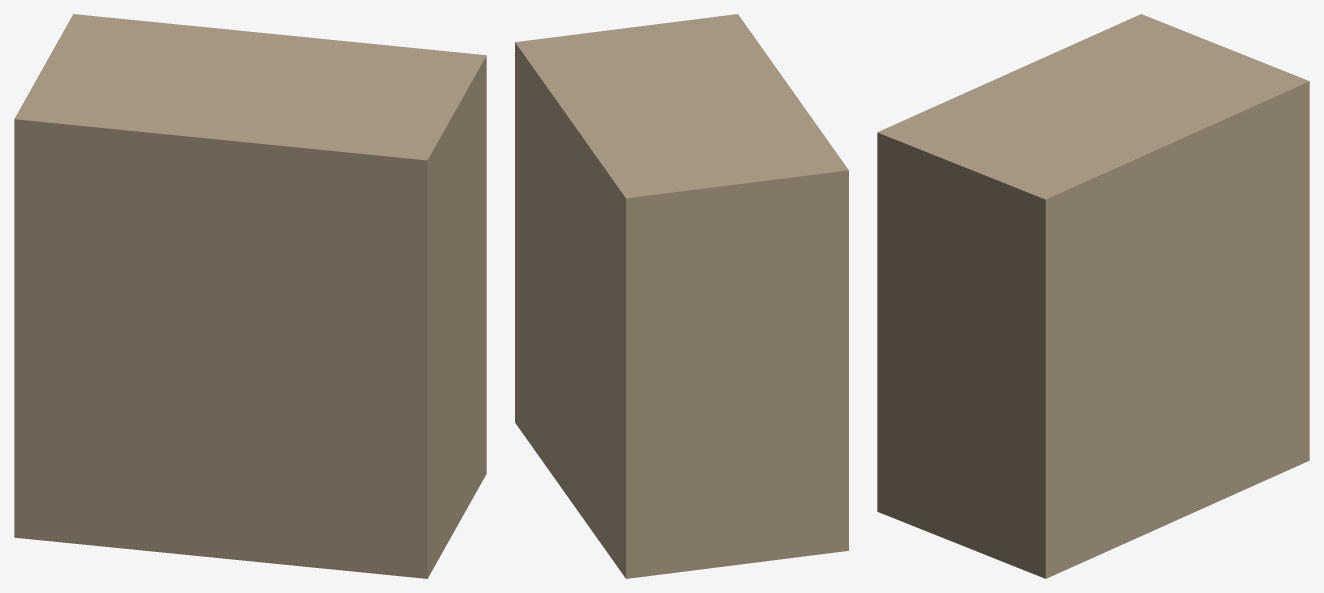
File: bld_99020389.dae
3 renders of one model, left to right at view 1: azimuth 30°, elevation 25°; view 2: azimuth 150°, elevation 25°; view 3: azimuth 270°, elevation 25°, orthographic. The views are drawn at different scales.
Parts seen in each view (by area): view 1: bld_99020389; view 2: bld_99020389; view 3: bld_99020389.
Boxes of the visible parts, x1,y1,x2,y2 form: bld_99020389: (14, 14, 486, 578); bld_99020389: (515, 14, 848, 578); bld_99020389: (877, 14, 1309, 578).
Bounding box in the file's own units: 8.4 × 8.27 × 8.
